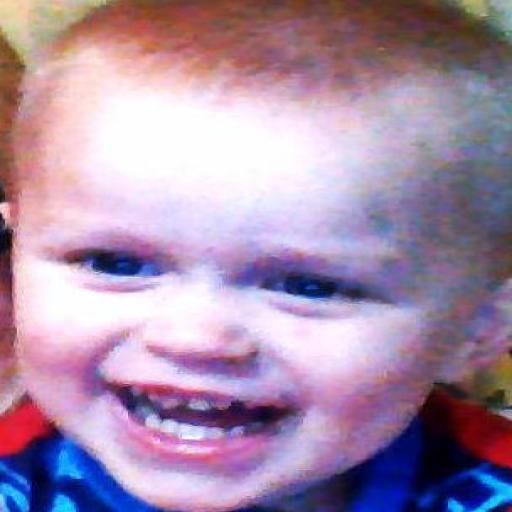Autism: (33, 20, 512, 471)
